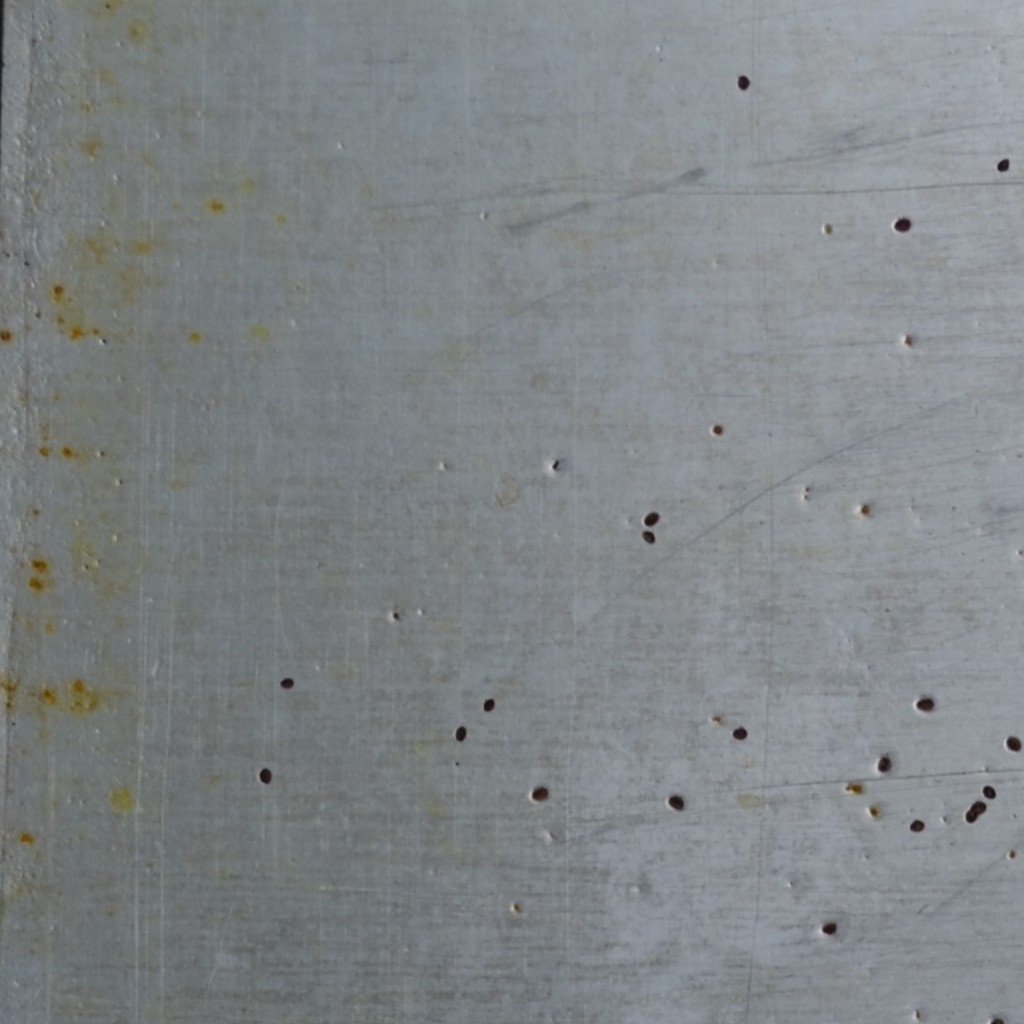varroa: (666, 790, 686, 816), (733, 69, 754, 92), (729, 722, 751, 743), (875, 751, 893, 776), (639, 525, 660, 546), (530, 783, 551, 804), (1003, 734, 1023, 756), (891, 213, 912, 233), (641, 507, 661, 528), (982, 780, 1000, 802), (453, 723, 470, 745), (994, 155, 1012, 175), (914, 696, 934, 714), (819, 920, 839, 936), (258, 766, 273, 787), (963, 807, 980, 824), (908, 818, 926, 834), (278, 674, 294, 691), (481, 696, 495, 715), (972, 798, 987, 815)
